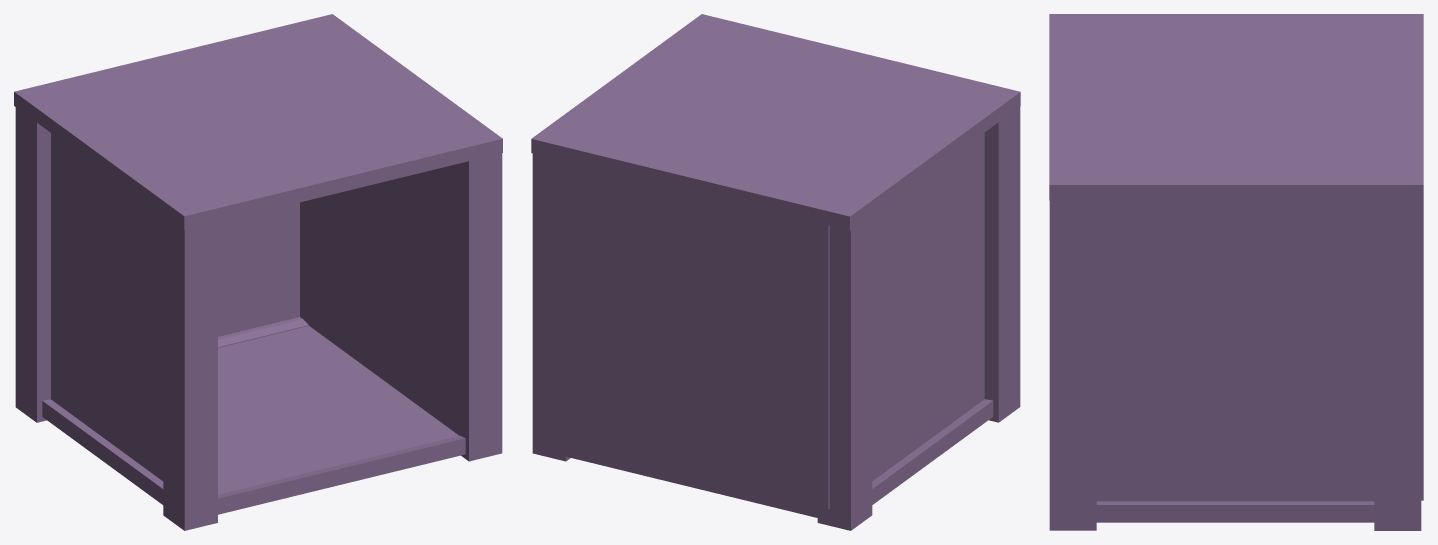
Rendered from buro.obj.
3 views of the same model, side by side, from view 1: azimuth 30°, elevation 25°; view 2: azimuth 150°, elevation 25°; view 3: azimuth 270°, elevation 25° (orthographic). The views are drawn at different scales.
Visible parts, largest first — view 1: polySurface5; view 2: polySurface5; view 3: polySurface5.
Boxes of the visible parts, <box> form: polySurface5: <box>14,14,502,530</box>; polySurface5: <box>531,14,1020,530</box>; polySurface5: <box>1049,14,1423,530</box>.
Size of the model in its own units: 60.76 by 57.41 by 56.29.
2 materials, 1 textured.
